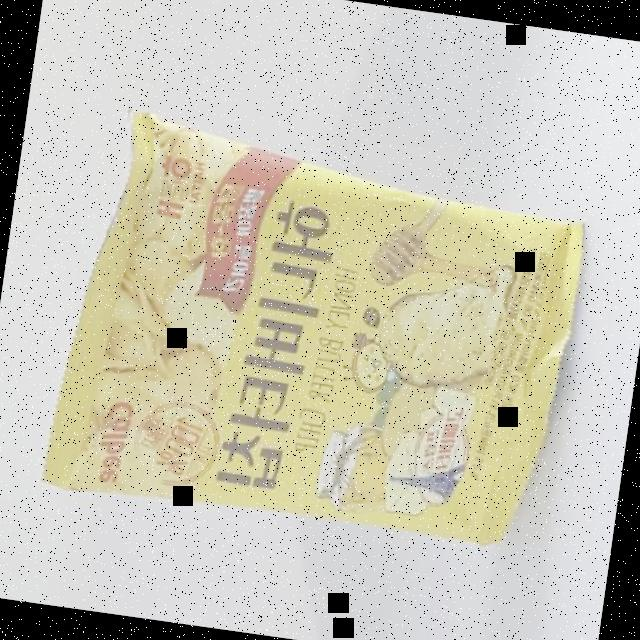snack_bag: (29, 96, 614, 584)
